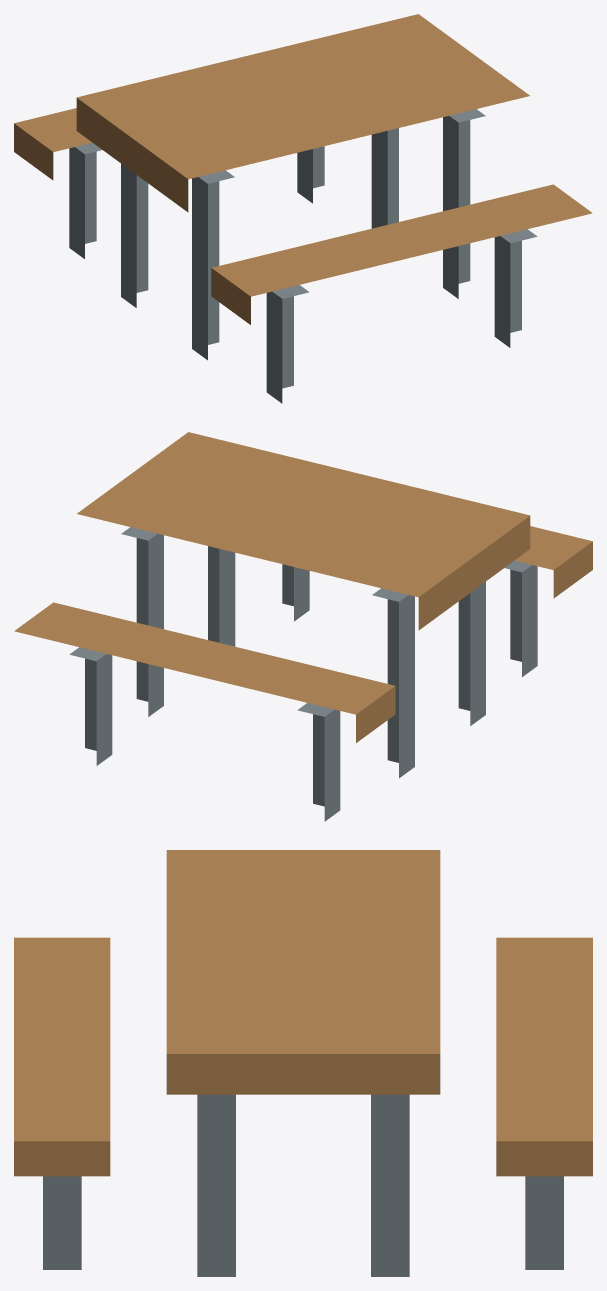
Rendered from table.glb.
3 views of the same model, one above another, from view 1: azimuth 30°, elevation 25°; view 2: azimuth 150°, elevation 25°; view 3: azimuth 270°, elevation 25° (orthographic). The views are drawn at different scales.
Size of the model in its own units: 1.5 by 0.83 by 1.8.
